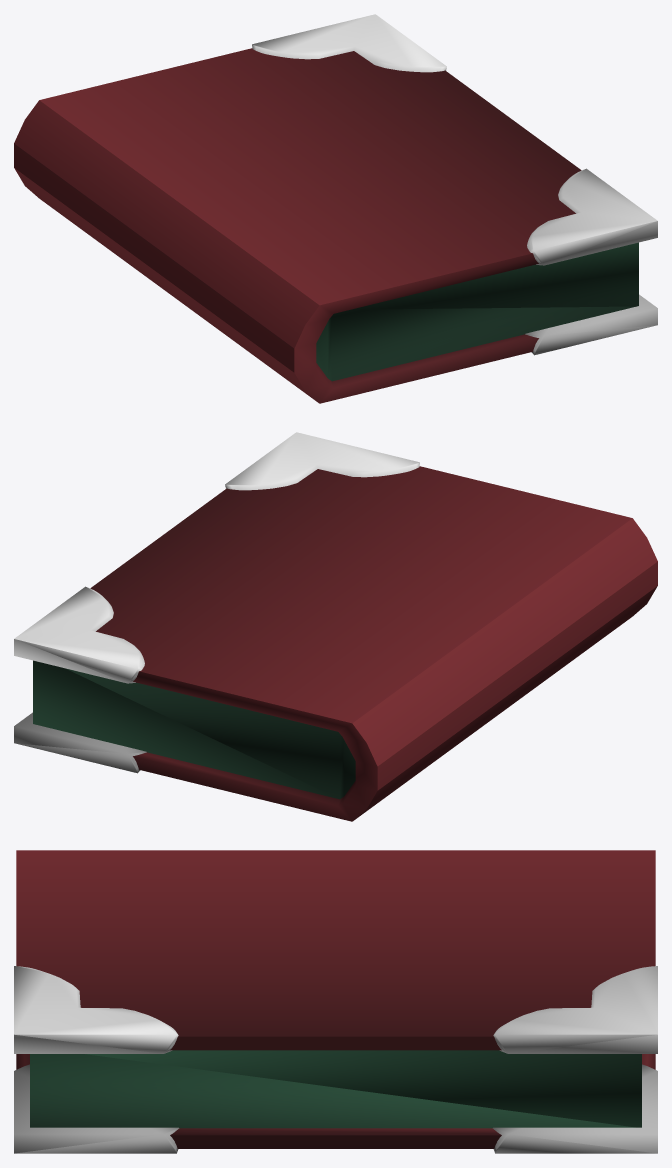
File: pq_livre_7.glb
3 renders of one model, top to bottom at view 1: azimuth 30°, elevation 25°; view 2: azimuth 150°, elevation 25°; view 3: azimuth 270°, elevation 25°, orthographic. The views are drawn at different scales.
Visible parts, largest first — view 1: Book_7; view 2: Book_7; view 3: Book_7.
Boxes of the visible parts, bbox=[...] form: Book_7: bbox=[14, 14, 657, 403]; Book_7: bbox=[14, 432, 657, 821]; Book_7: bbox=[14, 850, 657, 1153].
Size of the model in its own units: 0.2174 by 0.0597 by 0.2933.
